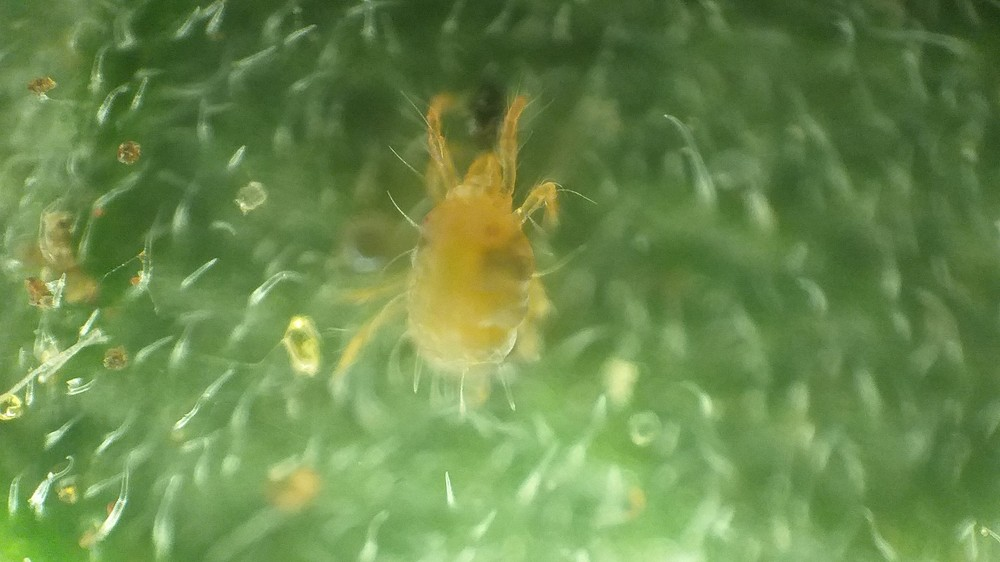Aracnido Rojo: (340, 87, 609, 443)
